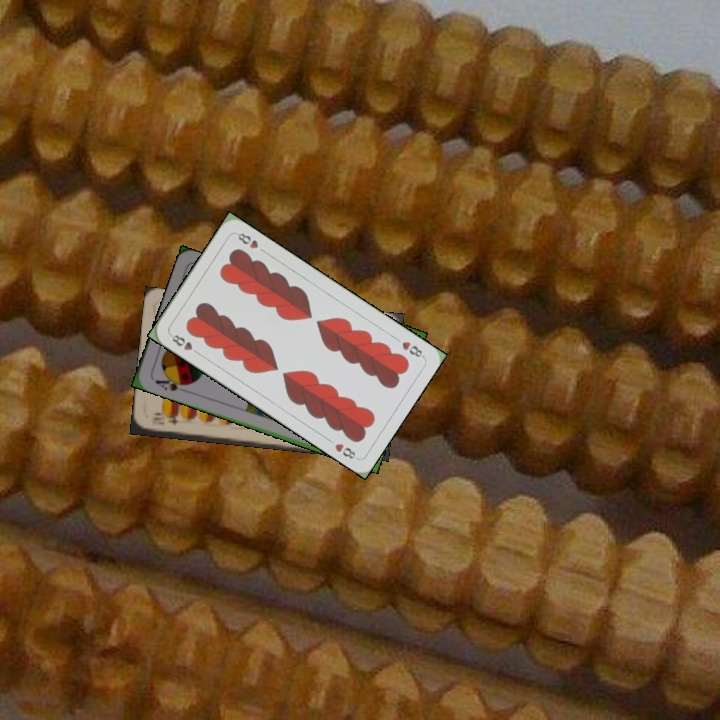E10: (148, 413, 181, 428)
H8: (166, 330, 202, 357), (398, 337, 426, 360)
SA: (151, 372, 191, 395)
